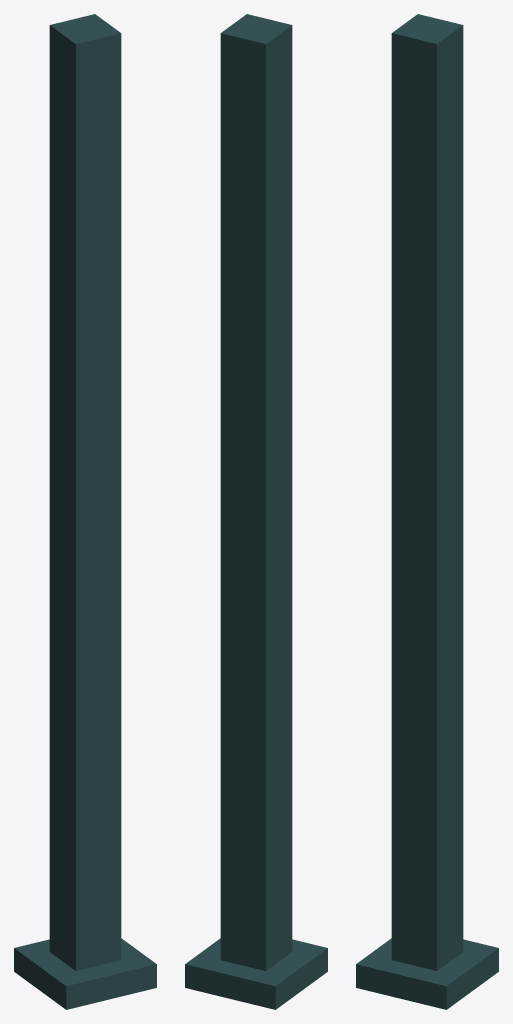
File: pylon.dae
The picture shows the model from 3 angles, left to right: view 1: azimuth 30°, elevation 25°; view 2: azimuth 150°, elevation 25°; view 3: azimuth 330°, elevation 25°; orthographic projection.
Parts seen in each view (by area): view 1: Cube; view 2: Cube; view 3: Cube.
Boxes of the visible parts, <box> form: Cube: <box>14,14,156,1009</box>; Cube: <box>185,14,327,1009</box>; Cube: <box>356,14,498,1009</box>.
Size of the model in its own units: 0.6872 by 0.6872 by 6.89.
